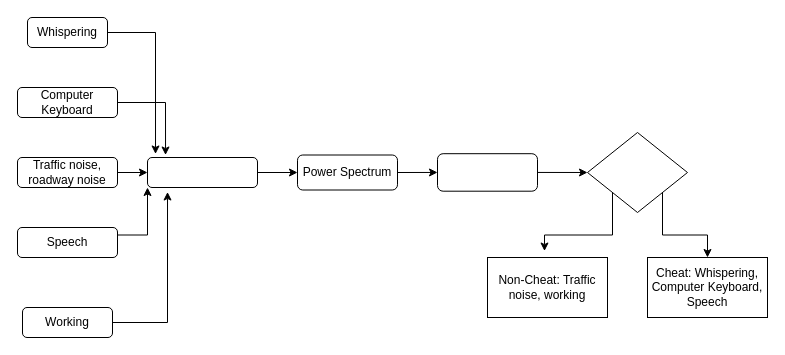
Image size: 785x355. Some labels were removed from this diagram. The shapes that lost their labels are listed below. From the top down, each one's centre as x and y in pixels, then its label:
pixel 202 172: Short Time Fourier Transformation
pixel 487 172: Mel-Filterbank
pixel 637 172: CNN
